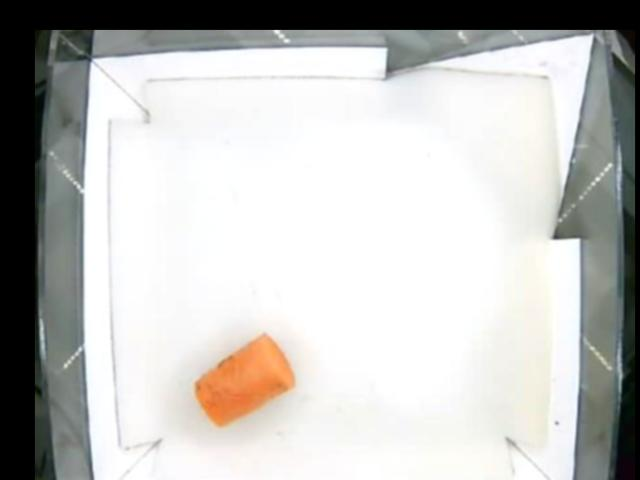Carrot: (191, 332, 296, 427)
